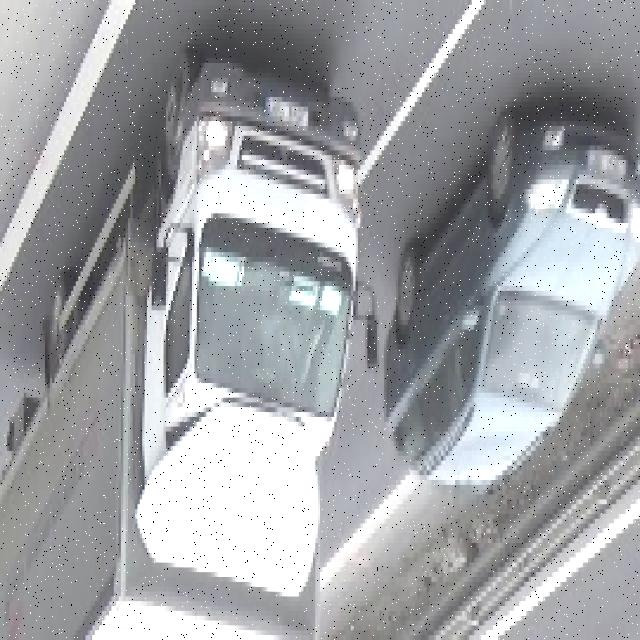truck: (2, 53, 384, 640)
